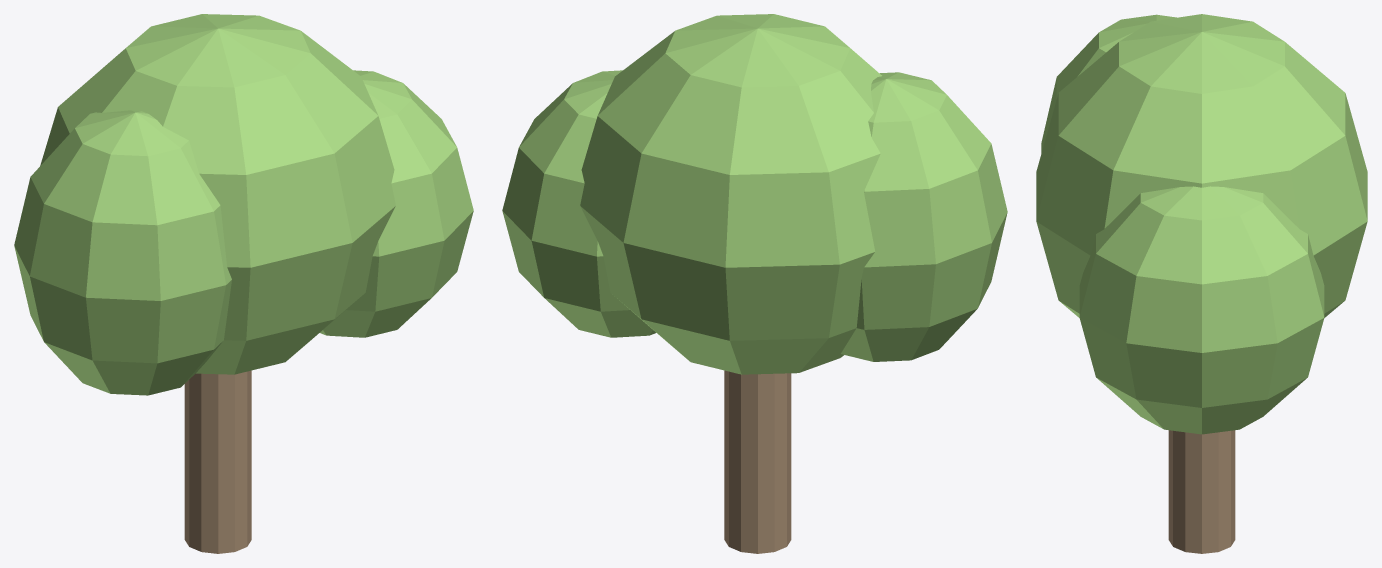
Rendered from oak_tree.glb.
3 views of the same model, side by side, from view 1: azimuth 30°, elevation 25°; view 2: azimuth 150°, elevation 25°; view 3: azimuth 270°, elevation 25° (orthographic).
Visible parts, largest first — view 1: canopy (×3), trunk; view 2: canopy (×3), trunk; view 3: canopy (×3), trunk.
Part boxes in pixels (left/top/right/bottom): canopy (×3): left=14, top=14, right=473, bottom=395; trunk: left=184, top=370, right=251, bottom=553; canopy (×3): left=502, top=14, right=1007, bottom=374; trunk: left=724, top=370, right=791, bottom=553; canopy (×3): left=1036, top=14, right=1367, bottom=434; trunk: left=1168, top=430, right=1235, bottom=553.
Bounding box in the file's own units: 3.4 × 3.7 × 2.19.
